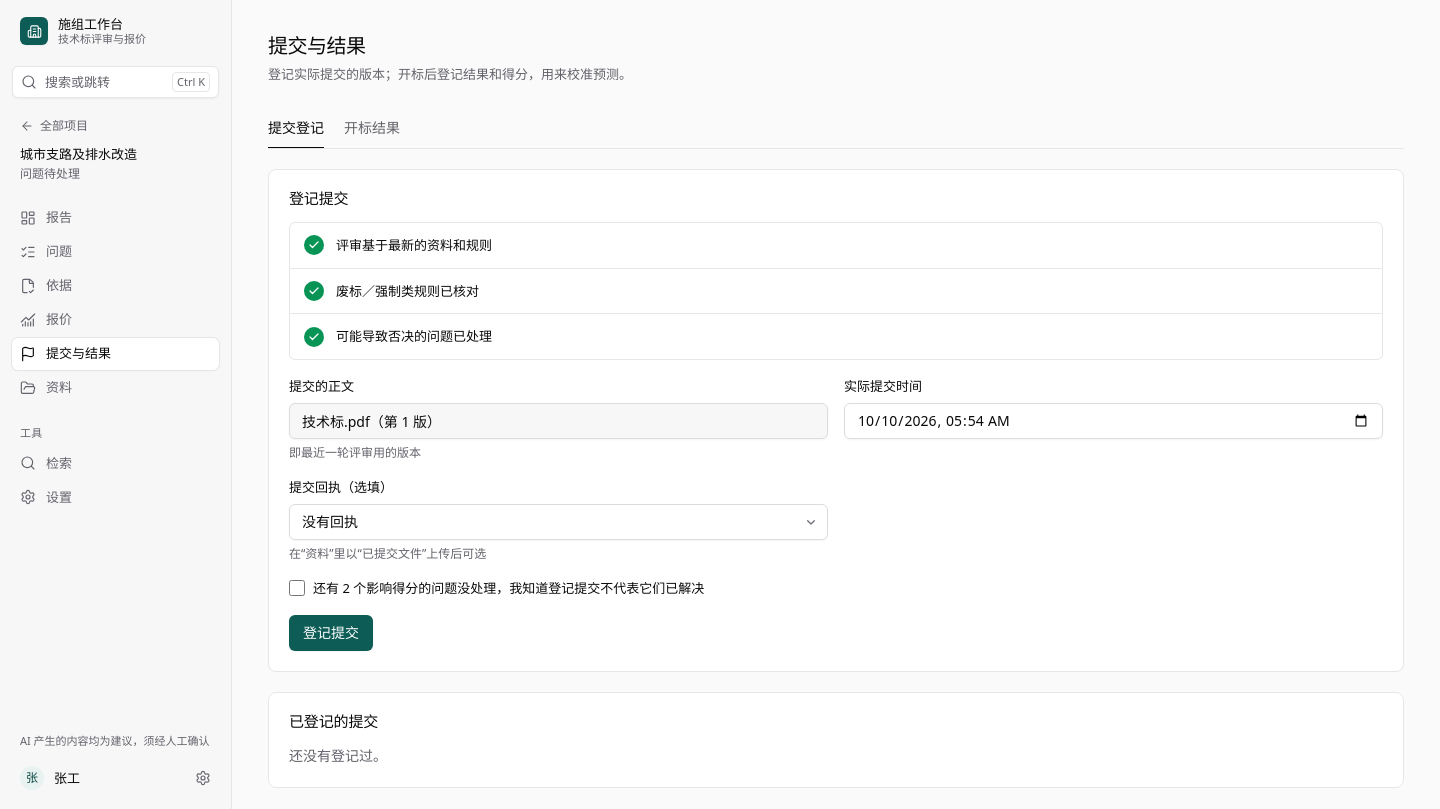
Test: 提交与结果页：登记提交 › 还有未结案的其他问题：必须勾选“已知晓”才能登记
The image size is (1440, 809).
Replace the text in the field labelled "实际提交时间" with "2026-10-05T10:00": (1114, 421) x1=844 y1=403 x2=1383 y2=439
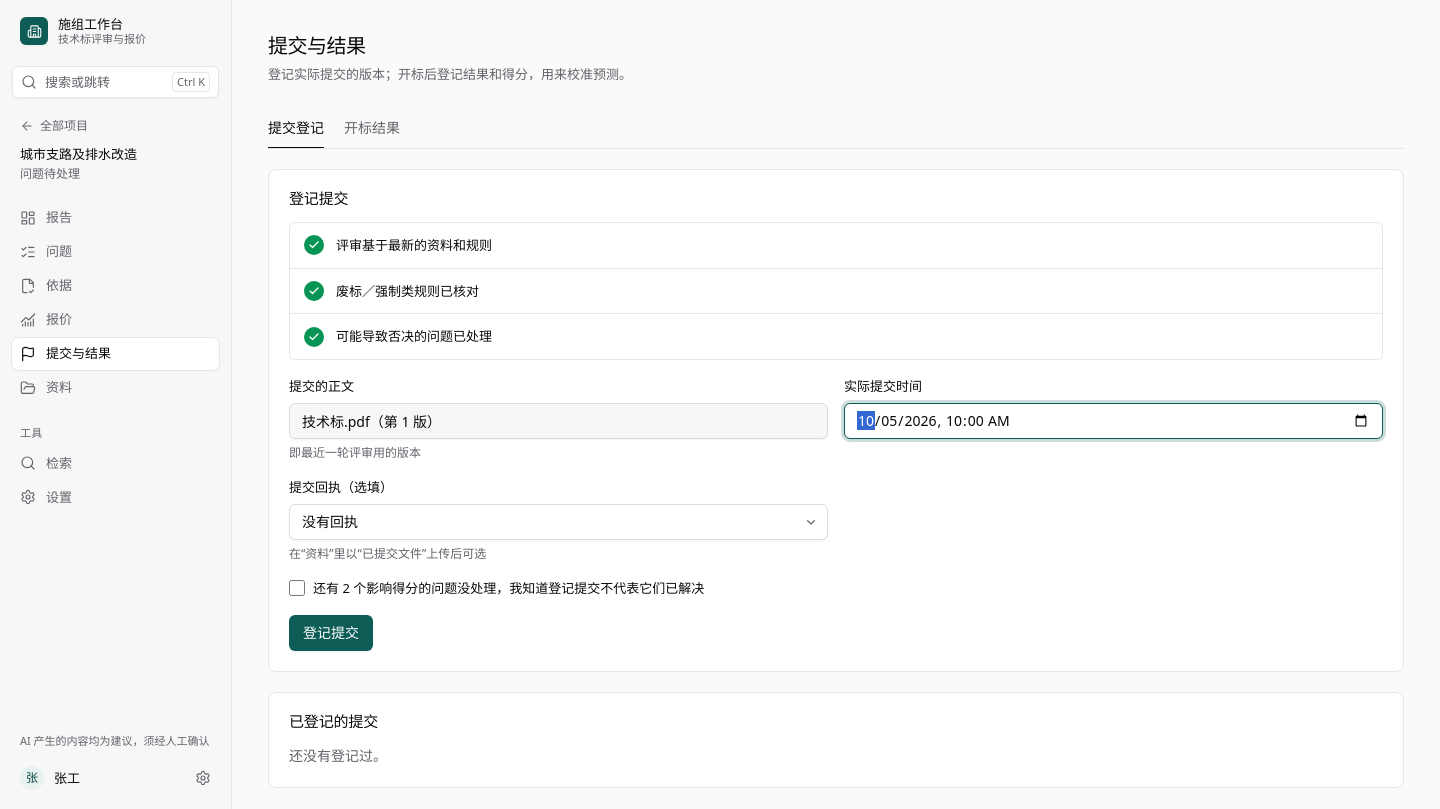
Click the button "登记提交": (331, 633) x1=289 y1=615 x2=373 y2=651
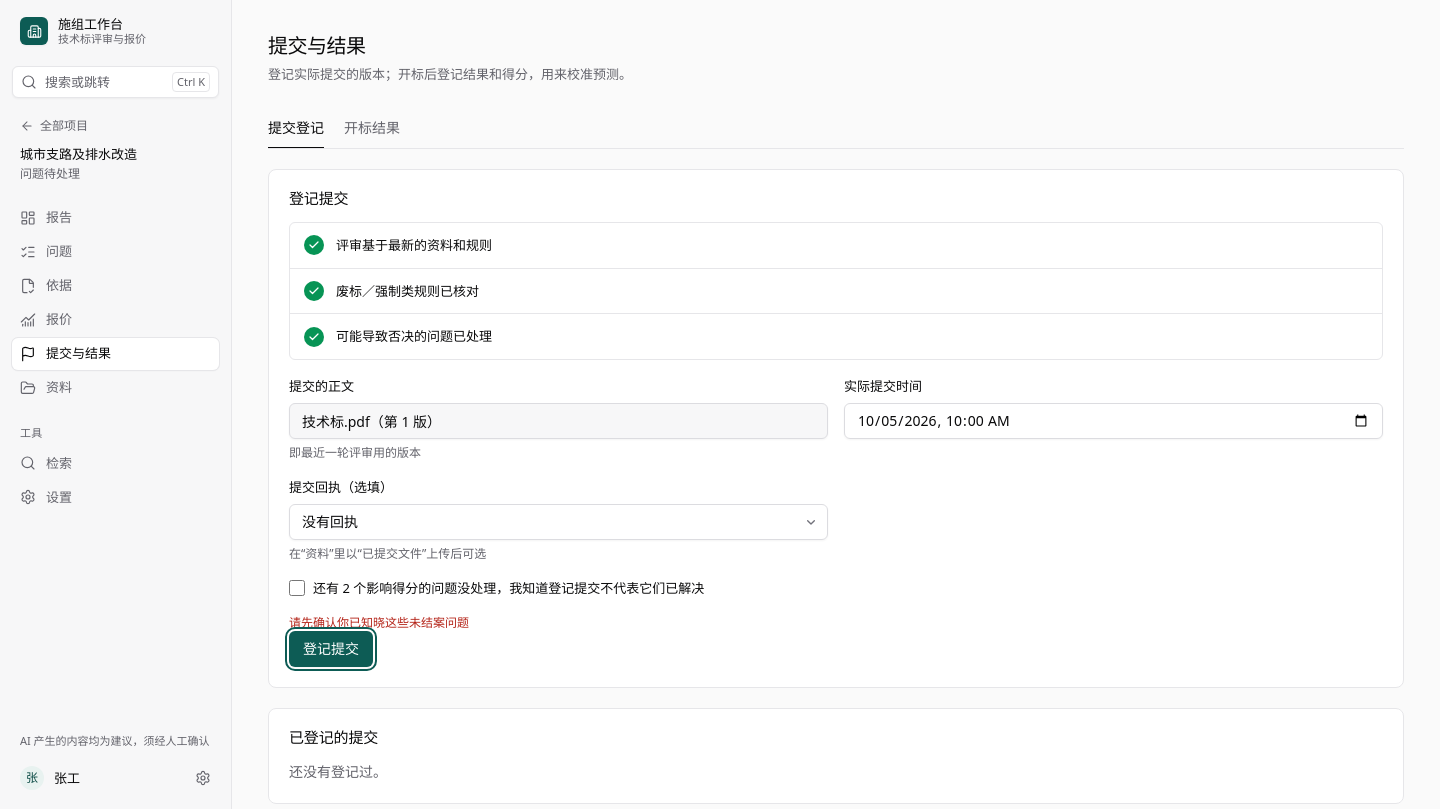
Now the text "请先确认你已知晓这些未结案问题" is shown, box x1=289 y1=614 x2=469 y2=631
Click the checkbox labelled "还有 2 个影响得分的问题没处理，我知道登记提交不代表它们已解决": (297, 588) x1=289 y1=580 x2=305 y2=596
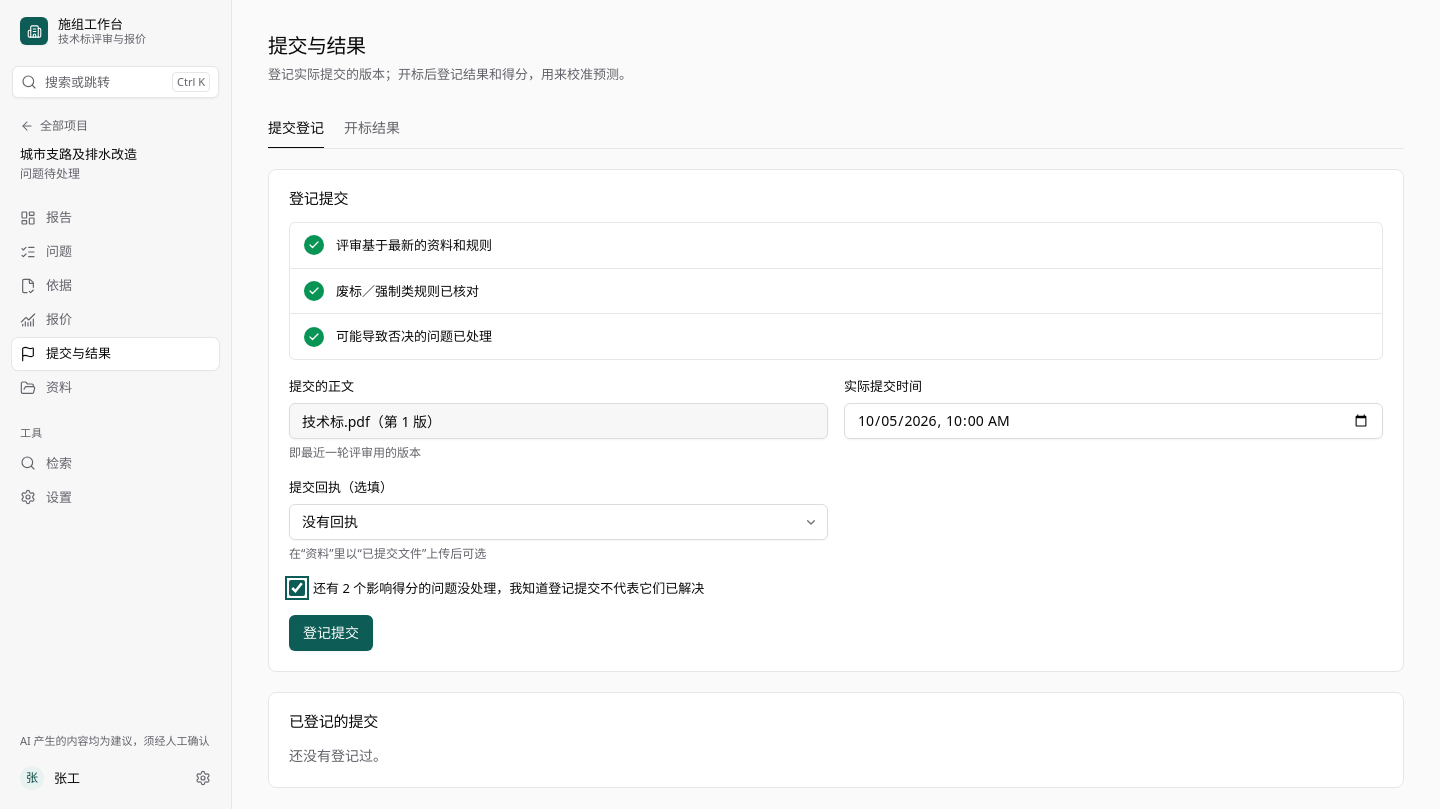
Click the button "登记提交": (331, 633) x1=289 y1=615 x2=373 y2=651
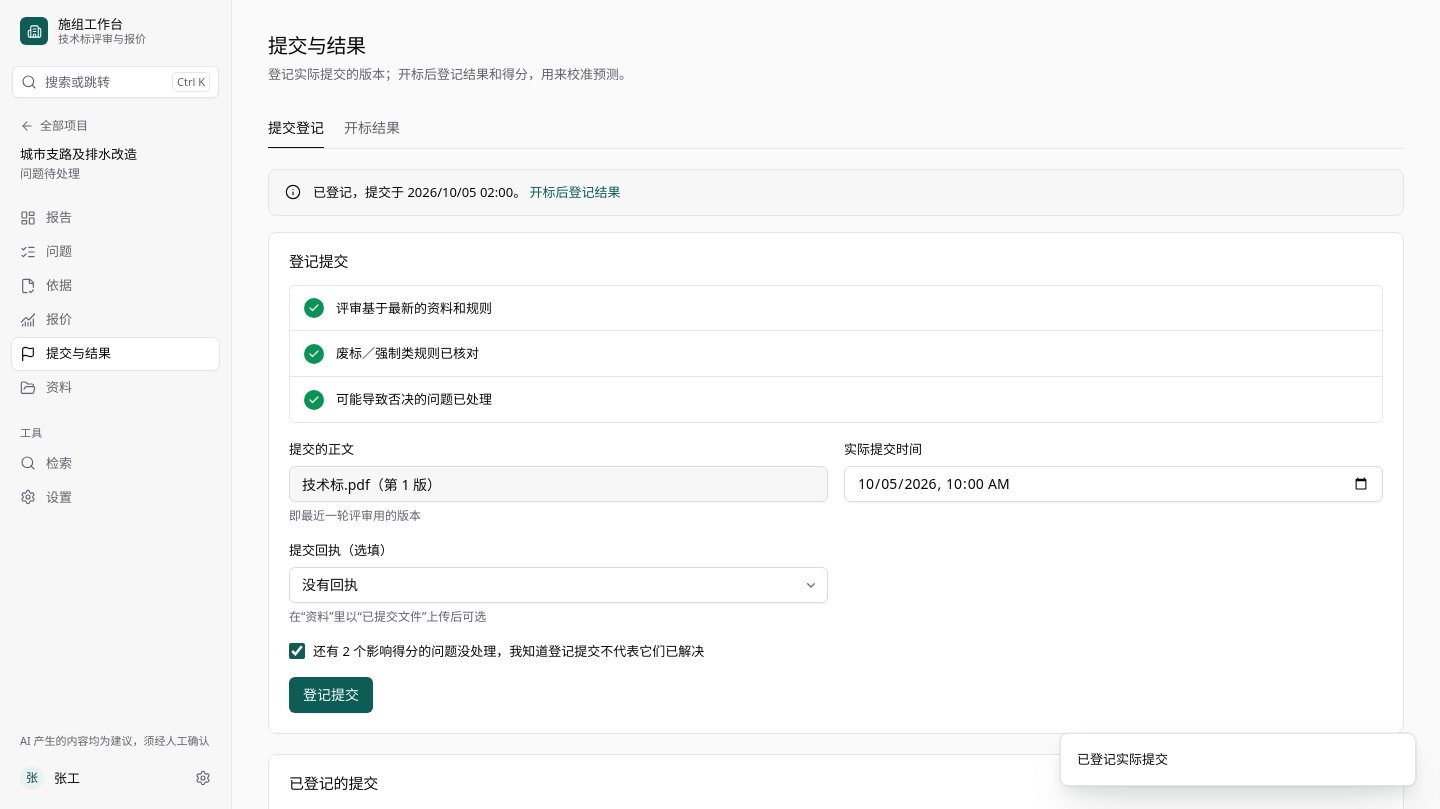
Now the text "已登记实际提交" is shown, box x1=1077 y1=750 x2=1168 y2=769
